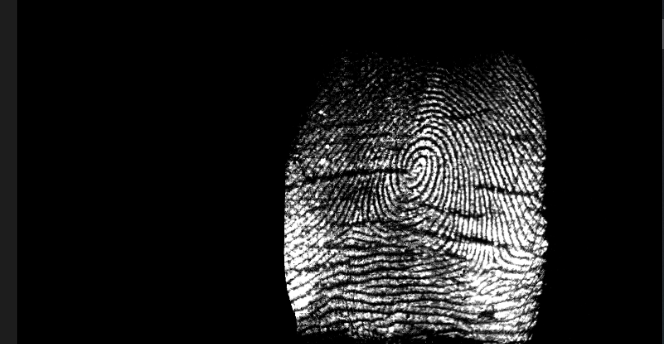deltas: (339, 196, 379, 243), (474, 236, 514, 280)
nucleo: (398, 149, 434, 190)
